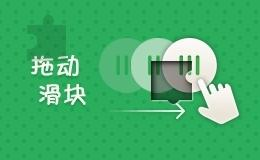target: (130, 41, 172, 80)
